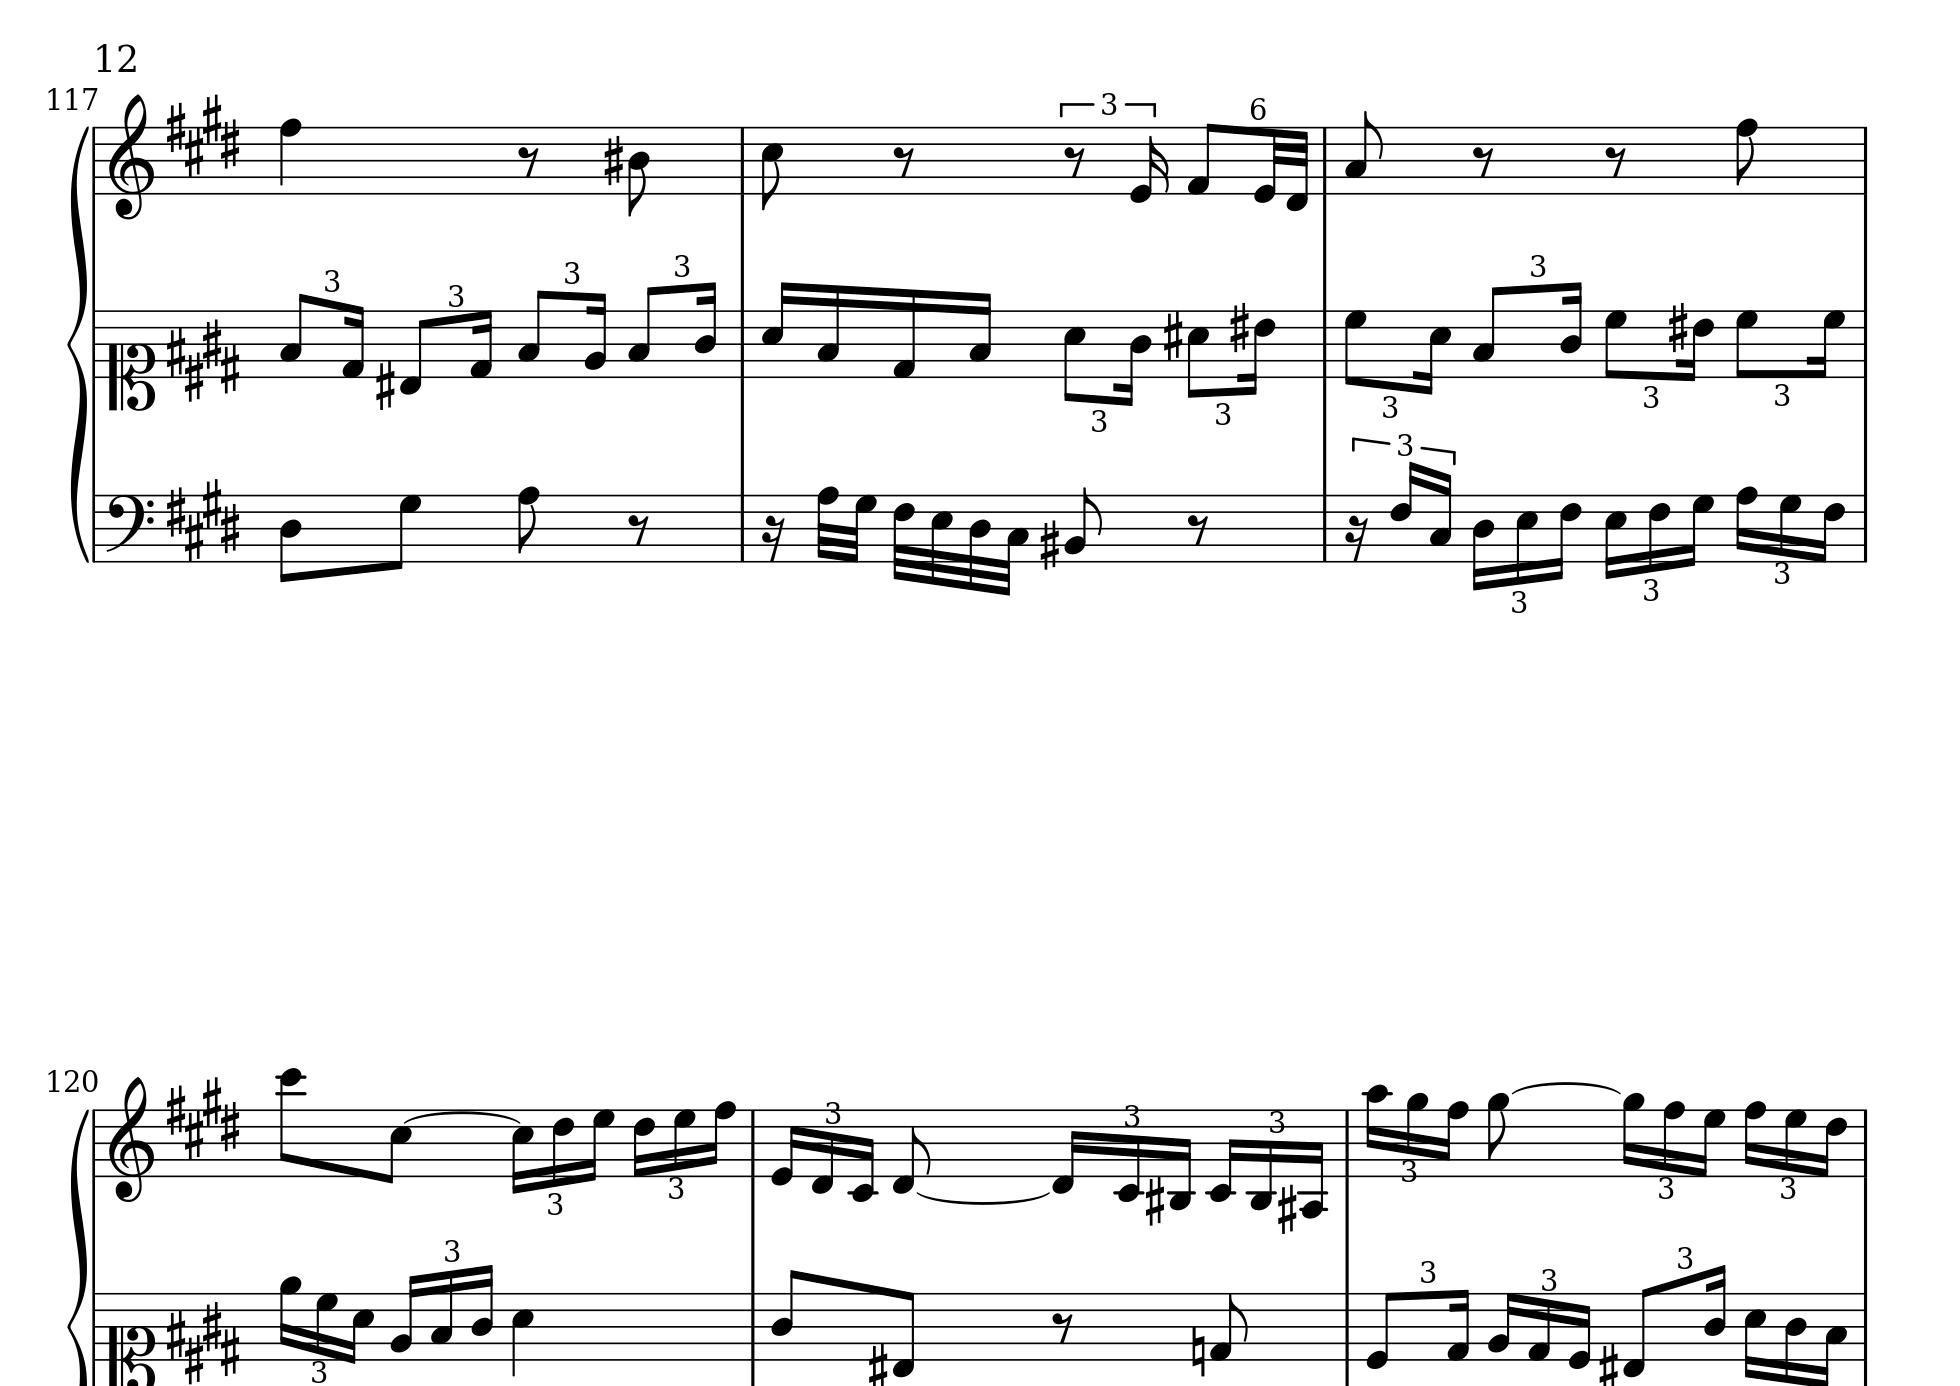0: (79, 1065, 97, 1093)
1: (94, 40, 112, 73), (63, 84, 79, 114), (46, 85, 61, 114), (46, 1066, 61, 1093)
16_-1: (1050, 1105, 1081, 1195), (808, 1105, 837, 1195)
16_-2: (1206, 1108, 1239, 1203), (1113, 1105, 1141, 1203), (847, 1107, 876, 1201)
16_-3: (1167, 1107, 1194, 1212), (1248, 1105, 1275, 1210)
16_-4: (1299, 1105, 1327, 1219)
16_0: (1128, 126, 1170, 205), (769, 1107, 799, 1186), (1566, 1290, 1593, 1369)
16_1: (339, 301, 366, 379), (1444, 1287, 1471, 1363), (1525, 1290, 1554, 1362), (466, 307, 493, 379)
16_10: (1362, 1083, 1392, 1177)
16_2: (388, 1272, 420, 1360), (580, 289, 607, 379), (1486, 1290, 1518, 1360)
16_3: (1816, 1290, 1848, 1386), (814, 282, 841, 379), (427, 1267, 454, 1362), (967, 289, 993, 379), (1428, 469, 1452, 562)
16_4: (1116, 307, 1152, 406), (691, 279, 718, 379), (1558, 279, 1584, 378), (1702, 1261, 1728, 1360), (1470, 492, 1494, 591), (469, 1261, 493, 1360), (1782, 1290, 1806, 1386)
16_5: (759, 277, 793, 378), (1416, 307, 1452, 397), (1513, 492, 1537, 585), (343, 1291, 373, 1365), (1743, 1290, 1767, 1381), (1602, 490, 1626, 580), (508, 1107, 532, 1194)
16_6: (1389, 459, 1420, 564), (1239, 307, 1275, 396), (1548, 490, 1581, 580), (1680, 307, 1714, 382), (1813, 490, 1846, 564), (1816, 1105, 1848, 1177), (1647, 490, 1671, 573), (550, 1105, 574, 1186), (631, 1105, 655, 1177)
16_7: (1680, 492, 1714, 568), (1809, 307, 1845, 379), (582, 1105, 615, 1182), (1695, 1107, 1725, 1177), (1776, 490, 1801, 562), (1782, 1105, 1807, 1176), (670, 1105, 694, 1177), (313, 1290, 337, 1360)
16_8: (703, 1099, 736, 1177), (1437, 1099, 1468, 1177), (1660, 1099, 1686, 1177), (1741, 1099, 1767, 1177), (1734, 484, 1758, 562)
16_9: (1404, 1090, 1428, 1180), (1620, 1090, 1644, 1177), (277, 1273, 301, 1360)
2: (115, 40, 138, 73), (61, 1066, 79, 1093)
3: (1641, 576, 1662, 604), (1509, 588, 1530, 616), (1393, 427, 1413, 457), (544, 1191, 565, 1216), (1099, 90, 1120, 115), (1641, 382, 1660, 409), (1213, 400, 1233, 427), (823, 1098, 841, 1126), (1269, 1107, 1287, 1135), (1089, 408, 1108, 433), (673, 252, 691, 279), (1419, 1257, 1437, 1284), (1656, 1176, 1675, 1200), (562, 259, 580, 285), (322, 267, 340, 292), (1381, 394, 1399, 420), (1773, 561, 1791, 586), (1122, 1102, 1140, 1128), (1401, 1158, 1419, 1183), (442, 1237, 460, 1263), (1677, 1243, 1695, 1269), (1530, 250, 1546, 277), (1773, 382, 1791, 406), (667, 1174, 685, 1198), (1779, 1176, 1797, 1200), (447, 282, 463, 307), (1540, 1266, 1557, 1291), (310, 1360, 327, 1384)
32_-1: (1284, 124, 1309, 213)
32_0: (1251, 124, 1281, 204)
32_3: (999, 492, 1029, 595)
32_4: (966, 493, 991, 591)
32_5: (928, 490, 954, 586)
32_6: (889, 492, 915, 582)
32_7: (844, 493, 877, 564)
32_8: (814, 484, 838, 564)
4_5: (508, 1290, 535, 1377)
4_8: (277, 115, 301, 195)
6: (1249, 94, 1269, 121)
7: (81, 84, 99, 112)
8_-1: (891, 1105, 931, 1195), (1621, 1282, 1657, 1378), (397, 307, 432, 396), (891, 1287, 918, 1378)
8_0: (1365, 1290, 1398, 1369)
8_1: (1209, 1291, 1249, 1362), (889, 286, 918, 379), (1185, 121, 1218, 196)
8_12: (277, 1065, 304, 1179)
8_2: (1065, 484, 1102, 562)
8_3: (1344, 109, 1383, 195), (1471, 283, 1504, 379), (625, 283, 658, 378), (516, 288, 549, 379), (277, 291, 310, 379)
8_4: (768, 1266, 802, 1360), (276, 492, 301, 583), (625, 124, 649, 217)
8_5: (381, 1107, 412, 1185), (757, 124, 784, 211), (1185, 307, 1210, 399), (1062, 307, 1086, 403)
8_7: (387, 492, 421, 570), (1342, 307, 1368, 387), (1603, 307, 1627, 379), (1734, 307, 1758, 379)
8_8: (514, 484, 540, 564), (1734, 117, 1758, 196)
8_9: (1485, 1090, 1510, 1177)
Brace: (64, 120, 91, 562), (66, 1101, 91, 1372)
E_S: (163, 315, 241, 402), (163, 475, 241, 562), (165, 1297, 241, 1384), (163, 94, 241, 177), (165, 1075, 241, 1159)
Fclef: (103, 490, 154, 564)
Gclef: (106, 1074, 156, 1203), (106, 93, 154, 220)
Natural: (1188, 1323, 1206, 1378)
Rests16: (759, 511, 786, 562), (1344, 511, 1368, 562)
Rests8: (1063, 144, 1087, 178), (1605, 144, 1629, 178), (1185, 511, 1209, 546), (1050, 1309, 1074, 1344), (892, 142, 915, 178), (625, 511, 649, 544), (517, 144, 540, 178), (1471, 144, 1494, 178)
Sharp: (1038, 516, 1062, 571), (601, 133, 624, 187), (1161, 307, 1183, 361), (373, 358, 396, 411), (1666, 300, 1689, 352), (1228, 298, 1249, 354), (1144, 1174, 1165, 1225), (1278, 1182, 1296, 1234), (1597, 1341, 1618, 1386), (865, 1342, 886, 1386)
Single_barline: (733, 307, 751, 376), (1338, 1108, 1356, 1177), (1338, 1291, 1356, 1360), (1857, 1291, 1875, 1360), (1857, 126, 1875, 193), (733, 493, 751, 559), (1857, 493, 1873, 562), (1857, 1108, 1873, 1177), (733, 127, 750, 193), (1317, 127, 1333, 193), (1317, 310, 1333, 376), (1857, 310, 1873, 376), (1317, 493, 1333, 559), (745, 1108, 760, 1177), (88, 1291, 103, 1360), (745, 1291, 760, 1360), (88, 310, 103, 378), (88, 1108, 103, 1176), (88, 493, 102, 562), (88, 127, 102, 195)
Slur: (403, 1110, 520, 1123), (1512, 1080, 1621, 1093)
Soprano_Cclef: (106, 307, 156, 412), (106, 1288, 157, 1386)
